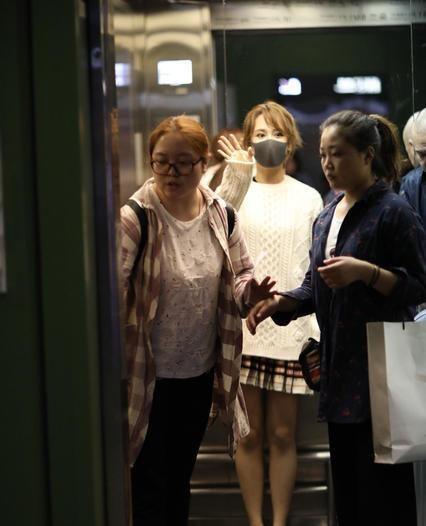face: (152, 136, 198, 197), (319, 128, 359, 191)
face_mask: (251, 115, 287, 169)
